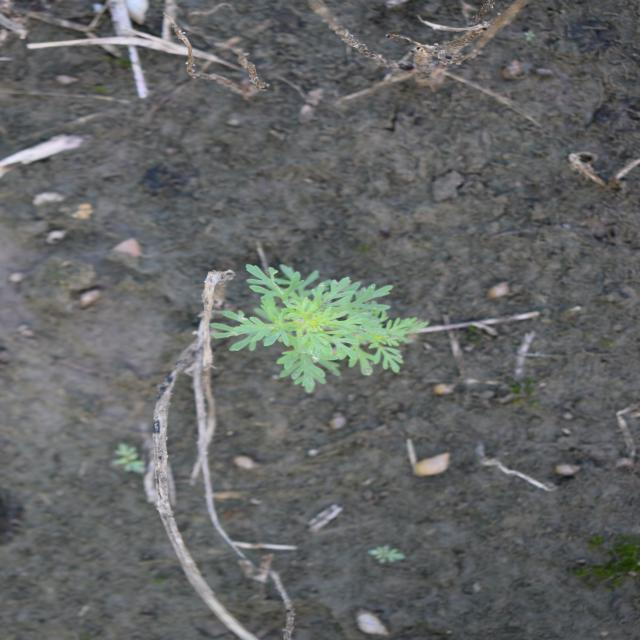Ragweed: (204, 261, 430, 396)
